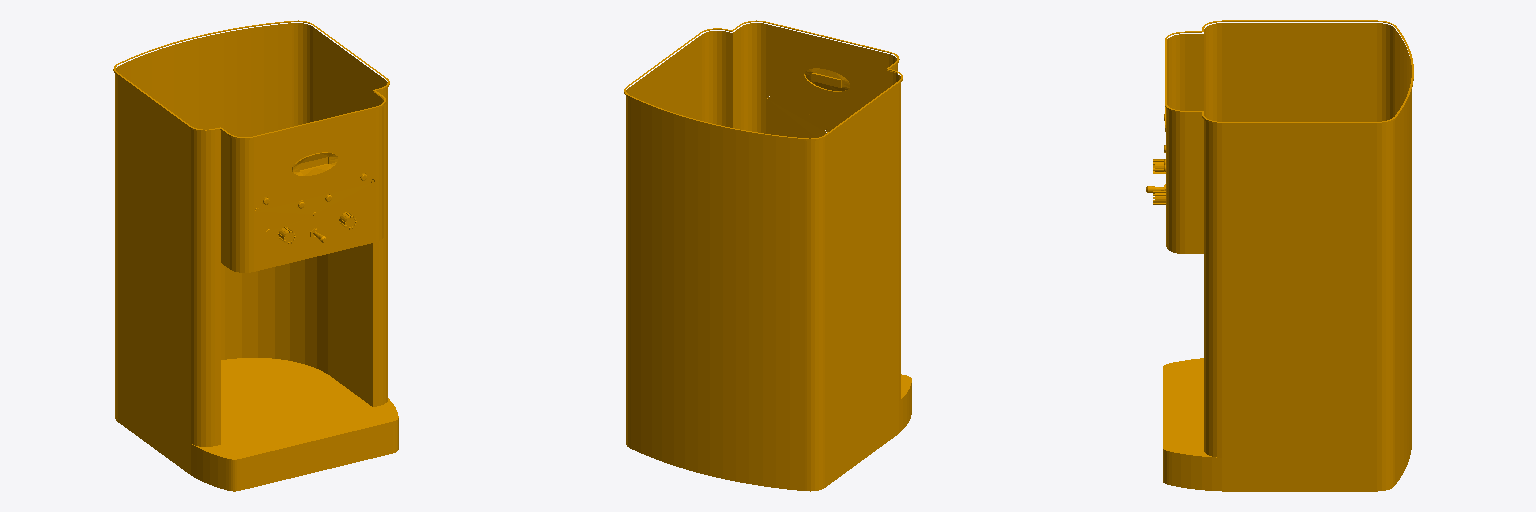
robot.urdf — 102901:
<?xml version="1.0" ?>
<robot name="102901" version="1.0">
  <link name="link_0">
    <visual name="link_0___1">
      <origin rpy="0.0 0.0 0.0" xyz="0.0 -0.0 0.0"/>
      <geometry>
        <mesh filename="shape/visual/link_0_m1_vm.obj"/>
      </geometry>
    </visual>
    <collision>
      <origin rpy="0.0 0.0 0.0" xyz="0.0 -0.0 0.0"/>
      <geometry>
        <mesh filename="shape/collision/link_0_cm.obj"/>
      </geometry>
    </collision>
    <visual name="link_1___1">
      <origin rpy="0.0 0.0 0.0" xyz="0.0 -0.0 0.0"/>
      <geometry>
        <mesh filename="shape/visual/link_1_m1_vm.obj"/>
      </geometry>
    </visual>
    <collision>
      <origin rpy="0.0 0.0 0.0" xyz="0.0 -0.0 0.0"/>
      <geometry>
        <mesh filename="shape/collision/link_1_cm.obj"/>
      </geometry>
    </collision>
    <visual name="link_2___1">
      <origin rpy="0.0 0.0 0.0" xyz="0.0 -0.0 0.0"/>
      <geometry>
        <mesh filename="shape/visual/link_2_m1_vm.obj"/>
      </geometry>
    </visual>
    <collision>
      <origin rpy="0.0 0.0 0.0" xyz="0.0 -0.0 0.0"/>
      <geometry>
        <mesh filename="shape/collision/link_2_cm.obj"/>
      </geometry>
    </collision>
    <visual name="link_3___1">
      <origin rpy="0.0 0.0 0.0" xyz="0.0 -0.0 0.0"/>
      <geometry>
        <mesh filename="shape/visual/link_3_m1_vm.obj"/>
      </geometry>
    </visual>
    <collision>
      <origin rpy="0.0 0.0 0.0" xyz="0.0 -0.0 0.0"/>
      <geometry>
        <mesh filename="shape/collision/link_3_cm.obj"/>
      </geometry>
    </collision>
    <visual name="link_6___1">
      <origin rpy="0.0 0.0 0.0" xyz="0.0 -0.0 0.0"/>
      <geometry>
        <mesh filename="shape/visual/link_6_m1_vm.obj"/>
      </geometry>
    </visual>
    <collision>
      <origin rpy="0.0 0.0 0.0" xyz="0.0 -0.0 0.0"/>
      <geometry>
        <mesh filename="shape/collision/link_6_cm.obj"/>
      </geometry>
    </collision>
    <visual name="link_7___1">
      <origin rpy="0.0 0.0 0.0" xyz="0.0 -0.0 0.0"/>
      <geometry>
        <mesh filename="shape/visual/link_7_m1_vm.obj"/>
      </geometry>
    </visual>
    <collision>
      <origin rpy="0.0 0.0 0.0" xyz="0.0 -0.0 0.0"/>
      <geometry>
        <mesh filename="shape/collision/link_7_cm.obj"/>
      </geometry>
    </collision>
    <visual name="link_8___1">
      <origin rpy="0.0 0.0 0.0" xyz="0.0 -0.0 0.0"/>
      <geometry>
        <mesh filename="shape/visual/link_8_m1_vm.obj"/>
      </geometry>
    </visual>
    <collision>
      <origin rpy="0.0 0.0 0.0" xyz="0.0 -0.0 0.0"/>
      <geometry>
        <mesh filename="shape/collision/link_8_cm.obj"/>
      </geometry>
    </collision>
    <visual name="link_9___2">
      <origin rpy="0.0 0.0 0.0" xyz="0.0 -0.0 0.0"/>
      <geometry>
        <mesh filename="shape/visual/link_9_m2_vm.obj"/>
      </geometry>
    </visual>
    <collision>
      <origin rpy="0.0 0.0 0.0" xyz="0.0 -0.0 0.0"/>
      <geometry>
        <mesh filename="shape/collision/link_9_cm.obj"/>
      </geometry>
    </collision>
  </link>
</robot>

--- Render facts (derived) ---
The picture shows the robot from 3 angles, left to right: view 1: azimuth 30°, elevation 25°; view 2: azimuth 150°, elevation 25°; view 3: azimuth 270°, elevation 25°; orthographic projection.
Robot: 102901 — 1 links, 0 joints (none); root link link_0; default pose: every joint at zero.
Visible links, largest first — view 1: link_0; view 2: link_0; view 3: link_0.
Link boxes in pixels (bbox=[...]): link_0: bbox=[113, 20, 398, 491]; link_0: bbox=[624, 20, 911, 491]; link_0: bbox=[1146, 20, 1413, 491].
Bounding box of the posed robot: 0.888 × 0.9836 × 1.5 m (x, y, z).
8 mesh visuals loaded from 8 distinct referenced files (8 OBJ).
